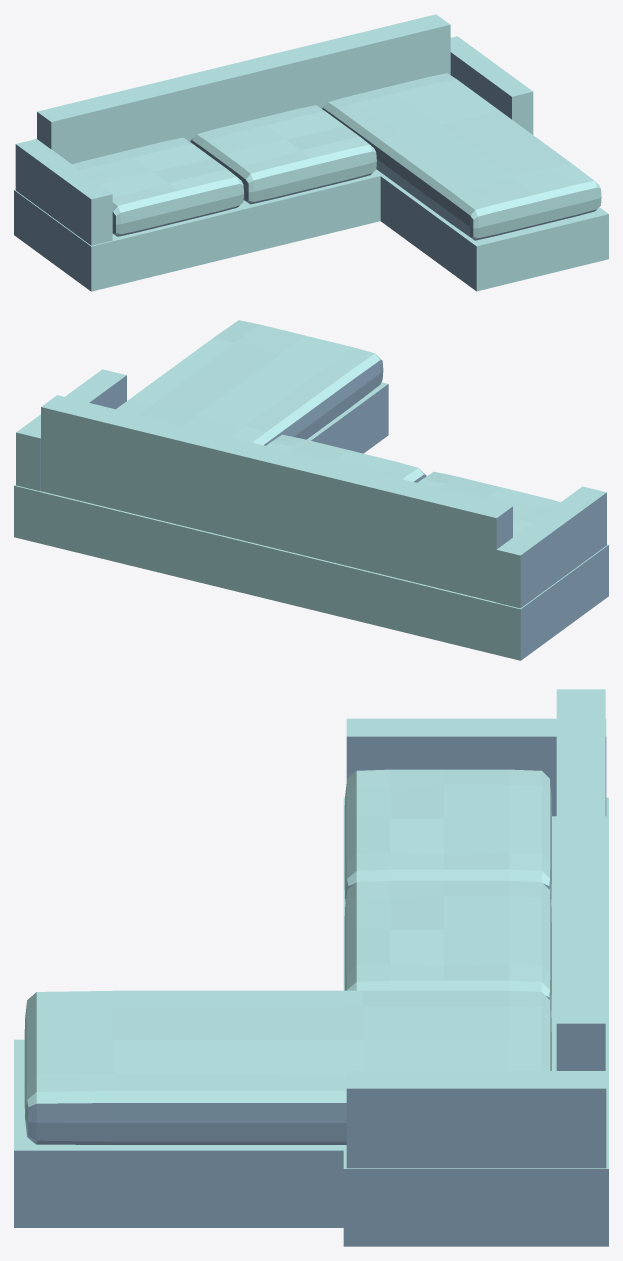
Rendered from L-Sofa.fbx.
The picture shows the model from 3 angles, top to bottom: view 1: azimuth 30°, elevation 25°; view 2: azimuth 150°, elevation 25°; view 3: azimuth 270°, elevation 25°; orthographic projection. The views are drawn at different scales.
Visible parts, largest first — view 1: L-Sofa; view 2: L-Sofa; view 3: L-Sofa.
Boxes of the visible parts, x1,y1,x2,y2 form: L-Sofa: (14,14,608,291); L-Sofa: (14,320,608,660); L-Sofa: (14,689,608,1246).
Size of the model in its own units: 617 by 158 by 417.
